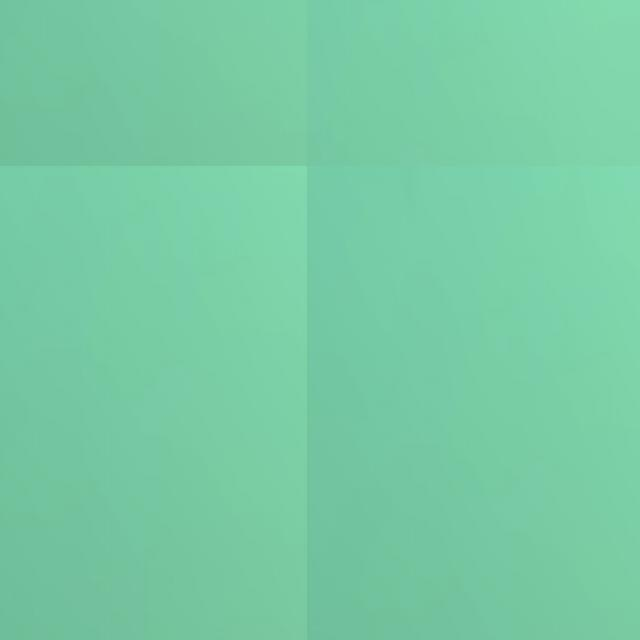fish: (307, 469, 640, 640)
